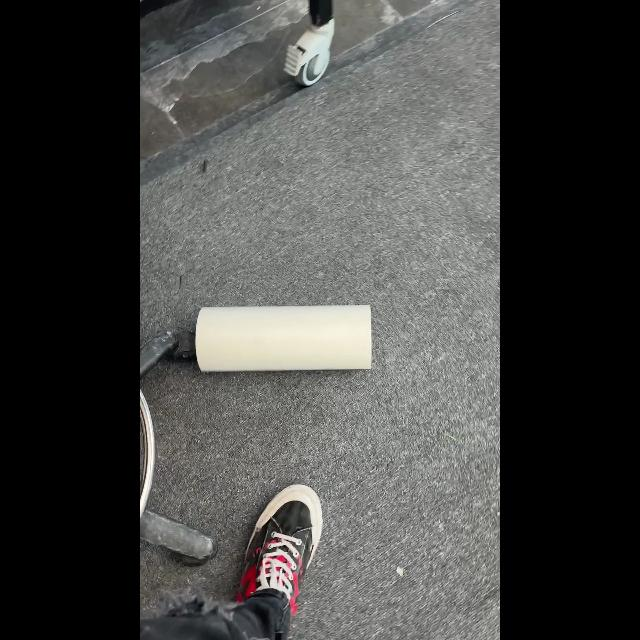CORAL: (194, 304, 372, 372)
